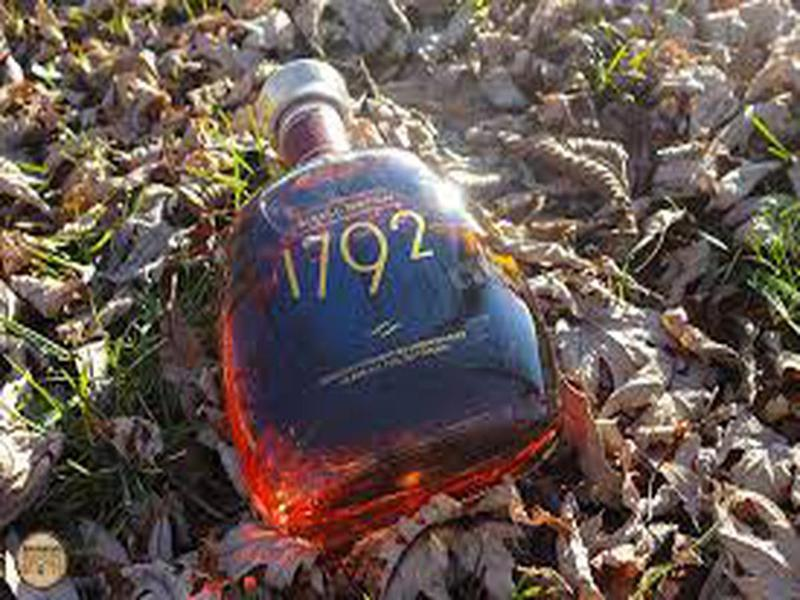bottle: (172, 44, 554, 543)
